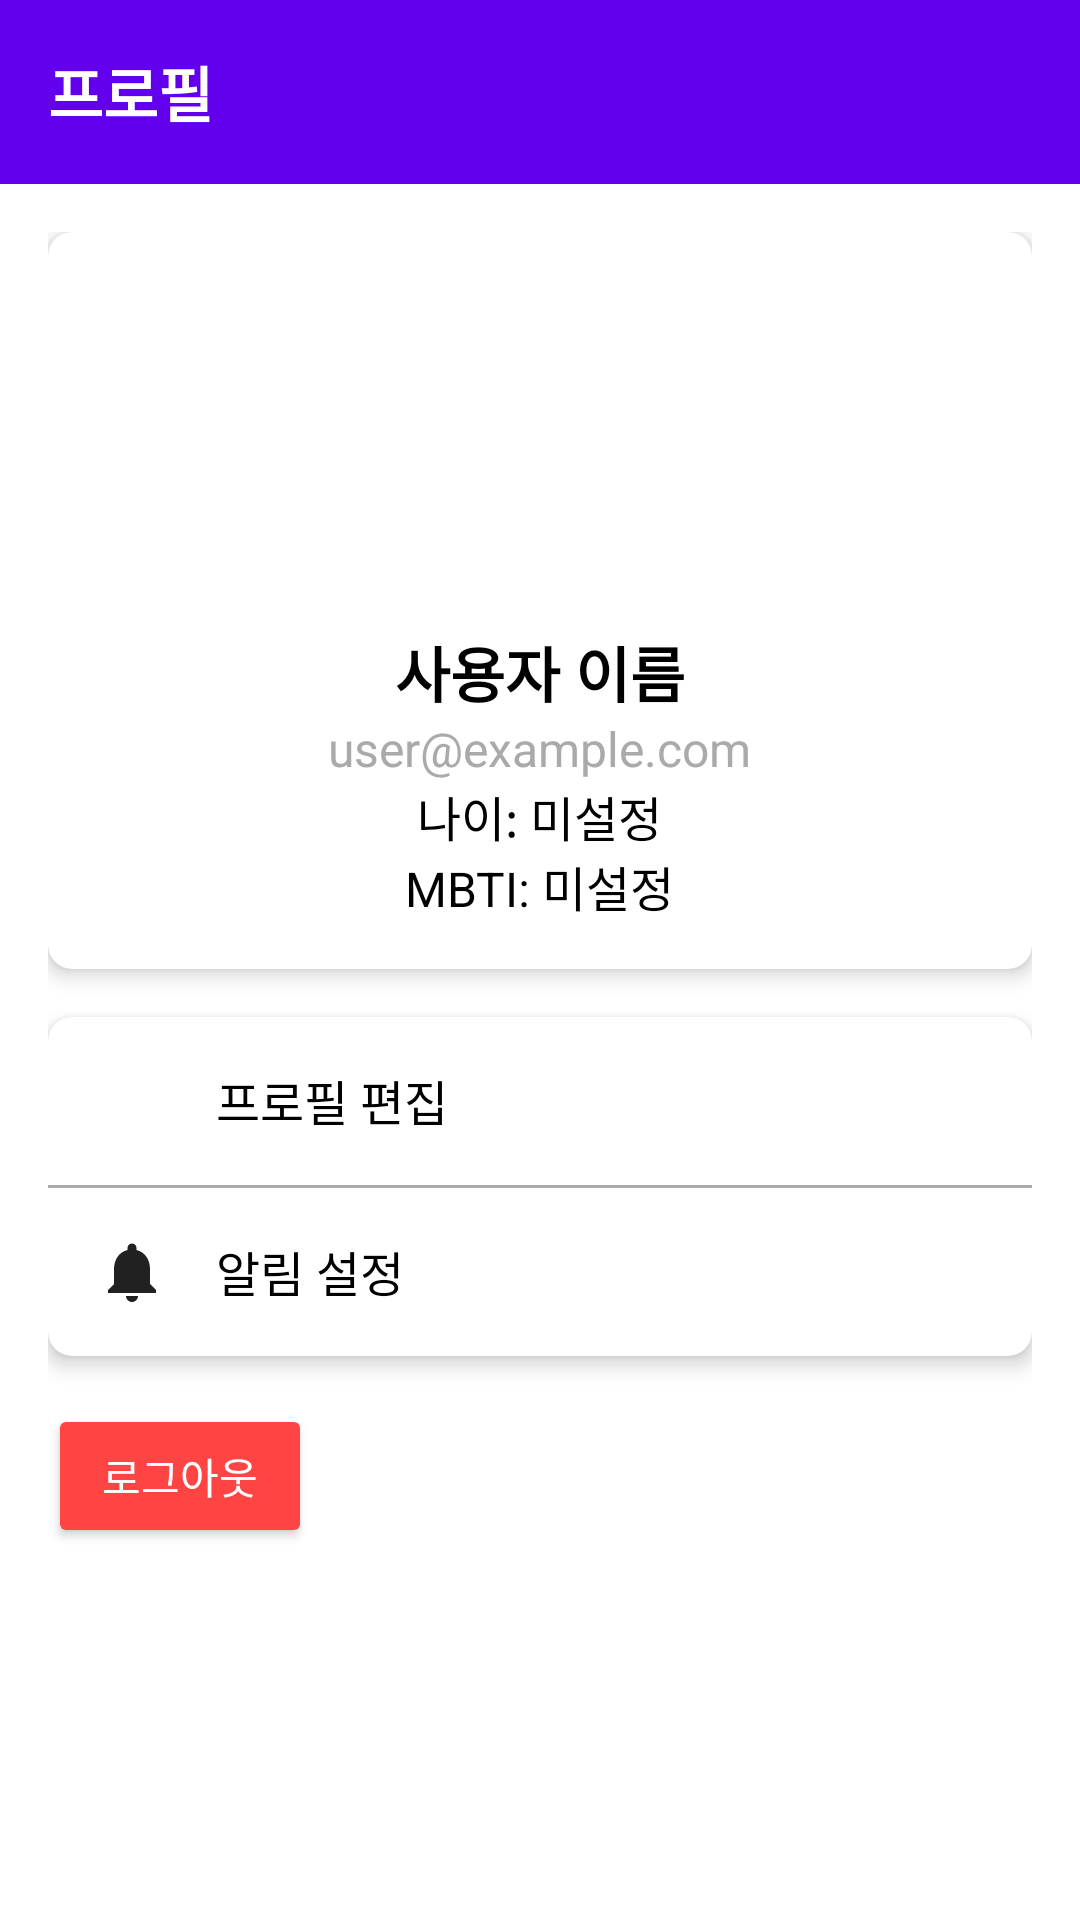

Icons on this 1080*1920 Android screen, each with its box as (x1, y1, x2, y2):
notifications: (108, 1243, 156, 1302)
